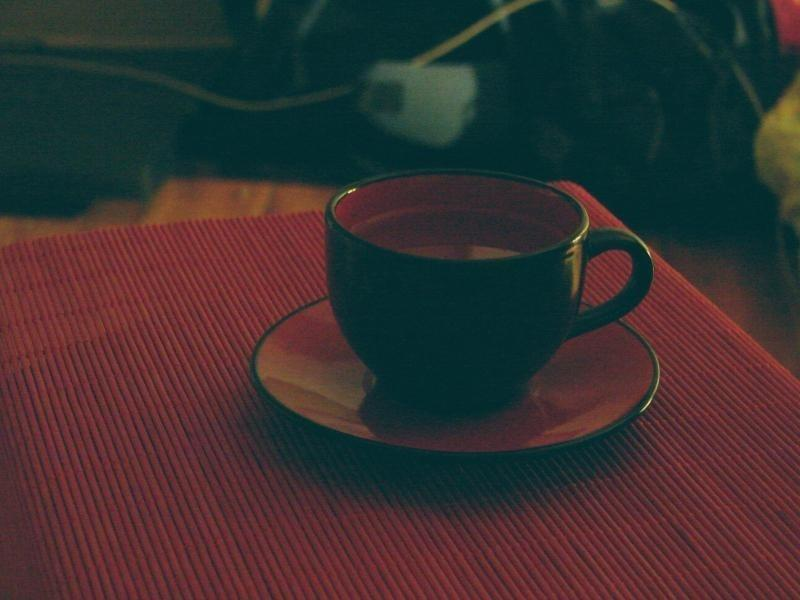cup-handle: (320, 169, 654, 414)
